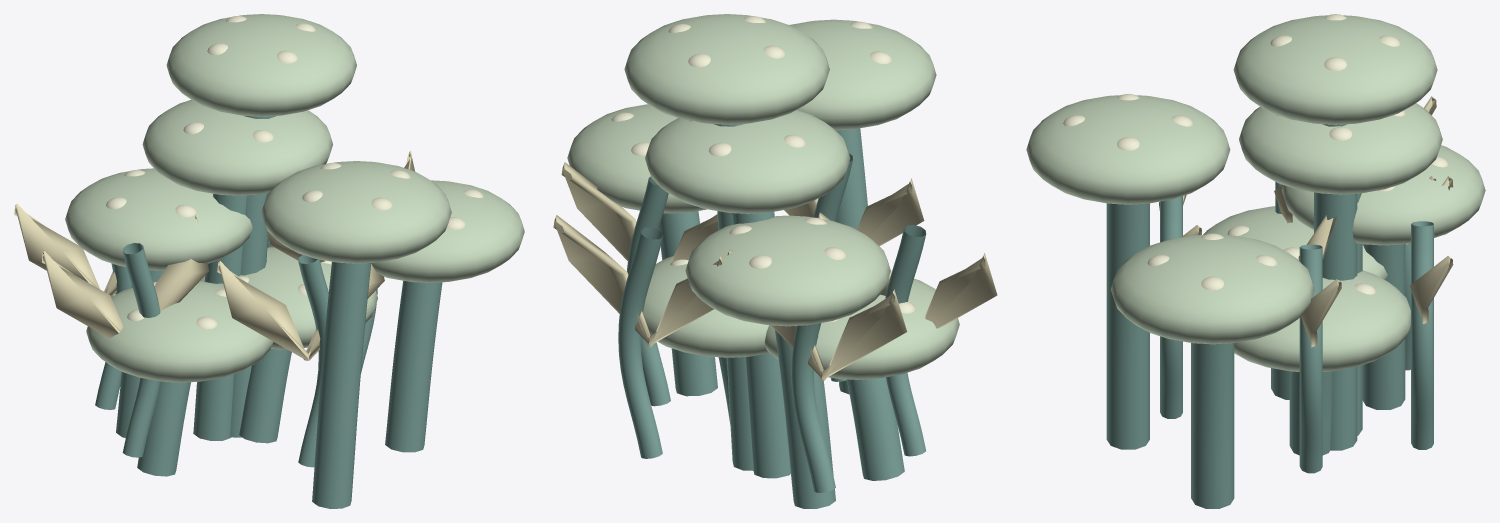
File: bio_spore_fungus_07_near.glb
3 renders of one model, left to right at view 1: azimuth 30°, elevation 25°; view 2: azimuth 150°, elevation 25°; view 3: azimuth 270°, elevation 25°, orthographic. The views are drawn at different scales.
Parts seen in each view (by area): view 1: Thick umbrella cap.003, Thick umbrella cap.002, Thick umbrella cap.006, Thick umbrella cap.001, Thick umbrella cap.004, Curved stipe.002, Thick umbrella cap.005, Curved stipe.005, Secondary fan lobe.008, Secondary fan lobe.004, Curved stipe.006, Thick umbrella cap (+10 smaller); view 2: Thick umbrella cap.003, Thick umbrella cap.001, Thick umbrella cap.006, Thick umbrella cap.002, Thick umbrella cap.005, Thick umbrella cap.004, Branching support.003, Thick umbrella cap, Secondary fan lobe.006, Curved stipe.006, Curved stipe.004, Branching support.001 (+14 smaller); view 3: Thick umbrella cap.003, Thick umbrella cap.002, Thick umbrella cap.005, Thick umbrella cap.006, Thick umbrella cap, Curved stipe.002, Thick umbrella cap.001, Curved stipe.005, Curved stipe.003, Branching support.003, Branching support, Curved stipe.001 (+11 smaller).
Boxes of the visible parts, left/top/right/bottom form: Thick umbrella cap.003: left=166, top=14, right=356, bottom=116; Thick umbrella cap.002: left=261, top=161, right=451, bottom=263; Thick umbrella cap.006: left=142, top=99, right=332, bottom=195; Thick umbrella cap.001: left=65, top=168, right=252, bottom=270; Thick umbrella cap.004: left=86, top=281, right=273, bottom=382; Curved stipe.002: left=312, top=261, right=371, bottom=508; Thick umbrella cap.005: left=371, top=180, right=524, bottom=282; Curved stipe.005: left=385, top=280, right=442, bottom=452; Secondary fan lobe.008: left=42, top=214, right=209, bottom=338; Secondary fan lobe.004: left=217, top=261, right=384, bottom=360; Curved stipe.006: left=193, top=194, right=246, bottom=440; Thick umbrella cap: left=200, top=247, right=377, bottom=349; Thick umbrella cap.003: left=624, top=14, right=829, bottom=124; Thick umbrella cap.001: left=685, top=215, right=890, bottom=326; Thick umbrella cap.006: left=645, top=110, right=850, bottom=213; Thick umbrella cap.002: left=790, top=19, right=936, bottom=130; Thick umbrella cap.005: left=567, top=104, right=706, bottom=213; Thick umbrella cap.004: left=764, top=278, right=959, bottom=379; Branching support.003: left=618, top=227, right=662, bottom=458; Thick umbrella cap: left=643, top=256, right=768, bottom=357; Secondary fan lobe.006: left=553, top=215, right=722, bottom=347; Curved stipe.006: left=732, top=212, right=790, bottom=478; Curved stipe.004: left=846, top=377, right=904, bottom=480; Branching support.001: left=791, top=323, right=835, bottom=492; Thick umbrella cap.003: left=1233, top=15, right=1437, bottom=124; Thick umbrella cap.002: left=1026, top=95, right=1230, bottom=204; Thick umbrella cap.005: left=1110, top=234, right=1314, bottom=344; Thick umbrella cap.006: left=1239, top=103, right=1442, bottom=194; Thick umbrella cap: left=1234, top=270, right=1410, bottom=371; Curved stipe.002: left=1106, top=203, right=1149, bottom=449; Thick umbrella cap.001: left=1281, top=145, right=1485, bottom=245; Curved stipe.005: left=1191, top=343, right=1234, bottom=508; Curved stipe.003: left=1314, top=124, right=1357, bottom=450; Branching support.003: left=1411, top=221, right=1433, bottom=449; Branching support: left=1299, top=244, right=1322, bottom=473; Curved stipe.001: left=1362, top=244, right=1405, bottom=409.
Size of the model in its own units: 2.05 by 1.82 by 1.8.
